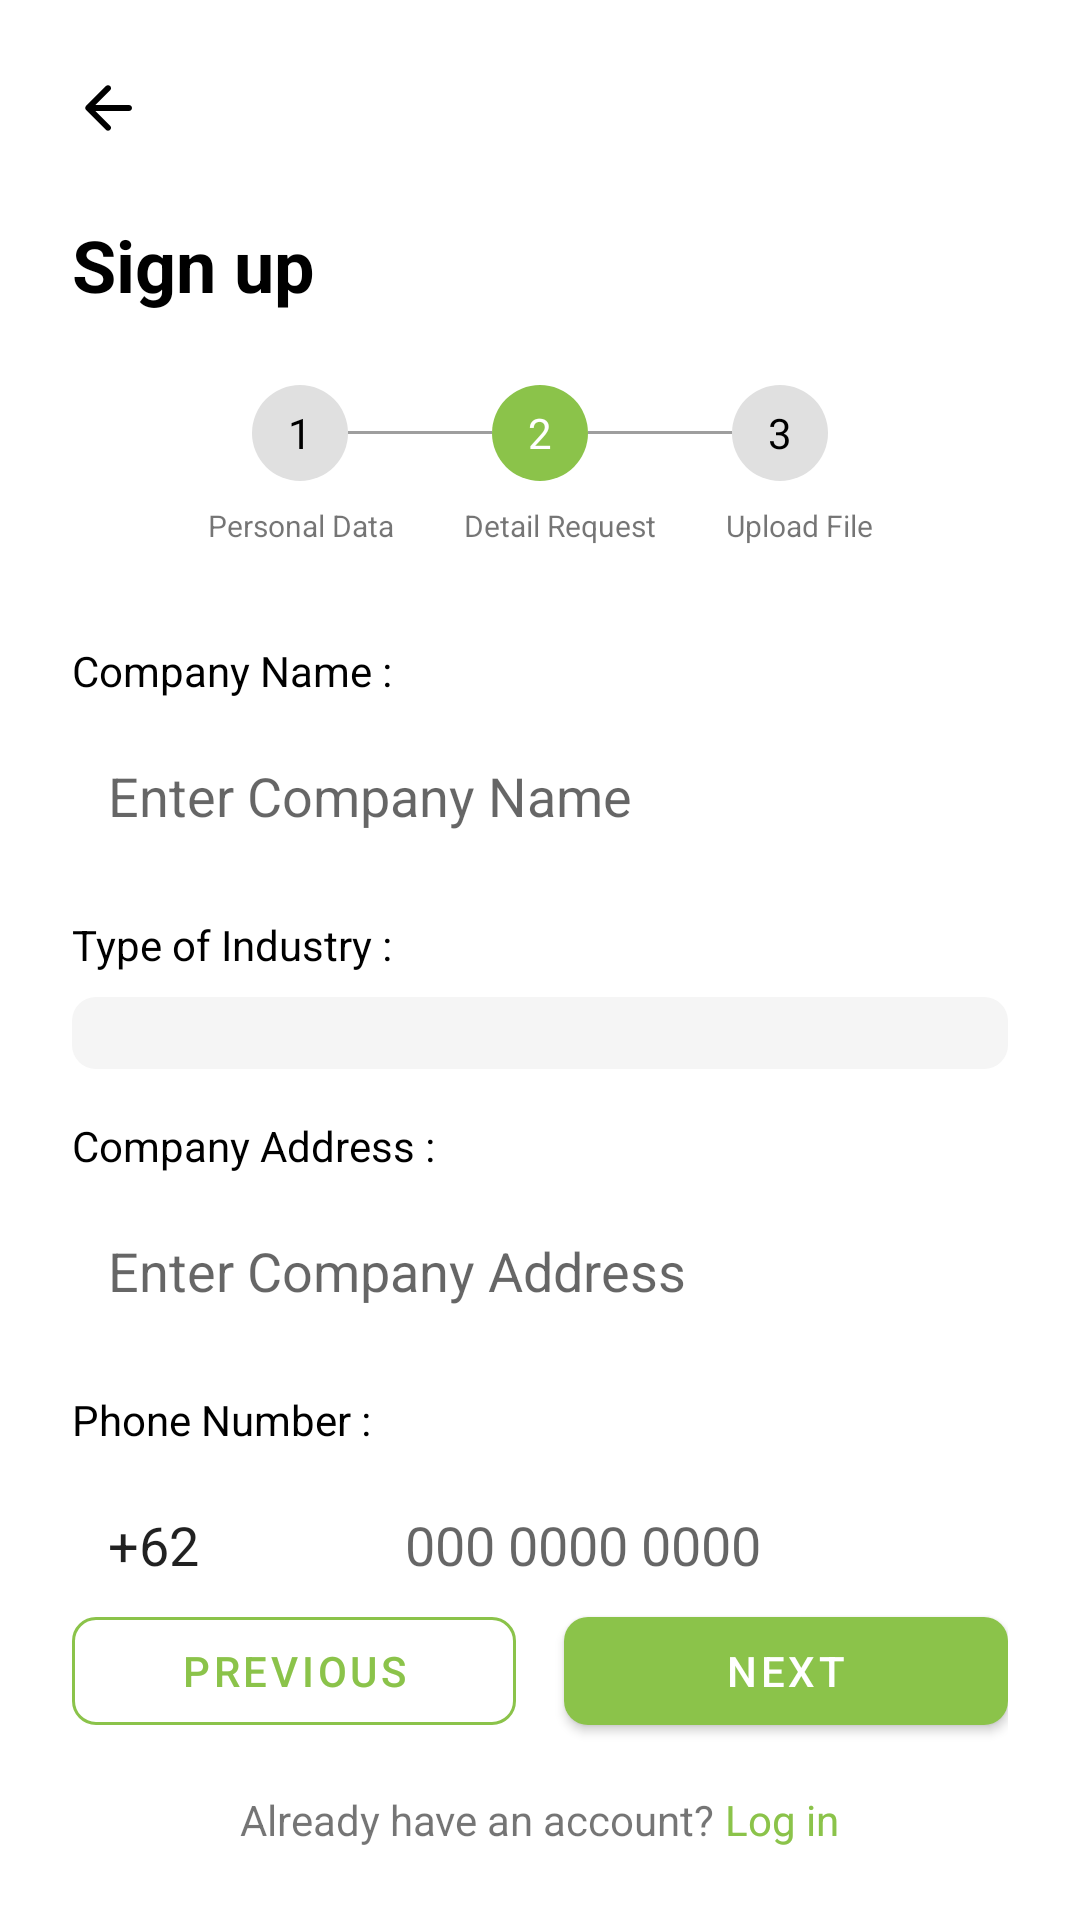

Where icons sit on this 1080 × 1920 app screen, as (x1, y1, x2, y2):
Back button: (85, 85, 132, 131)
